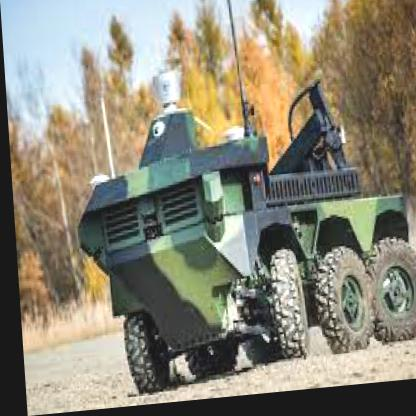UGV: (67, 79, 415, 401)
